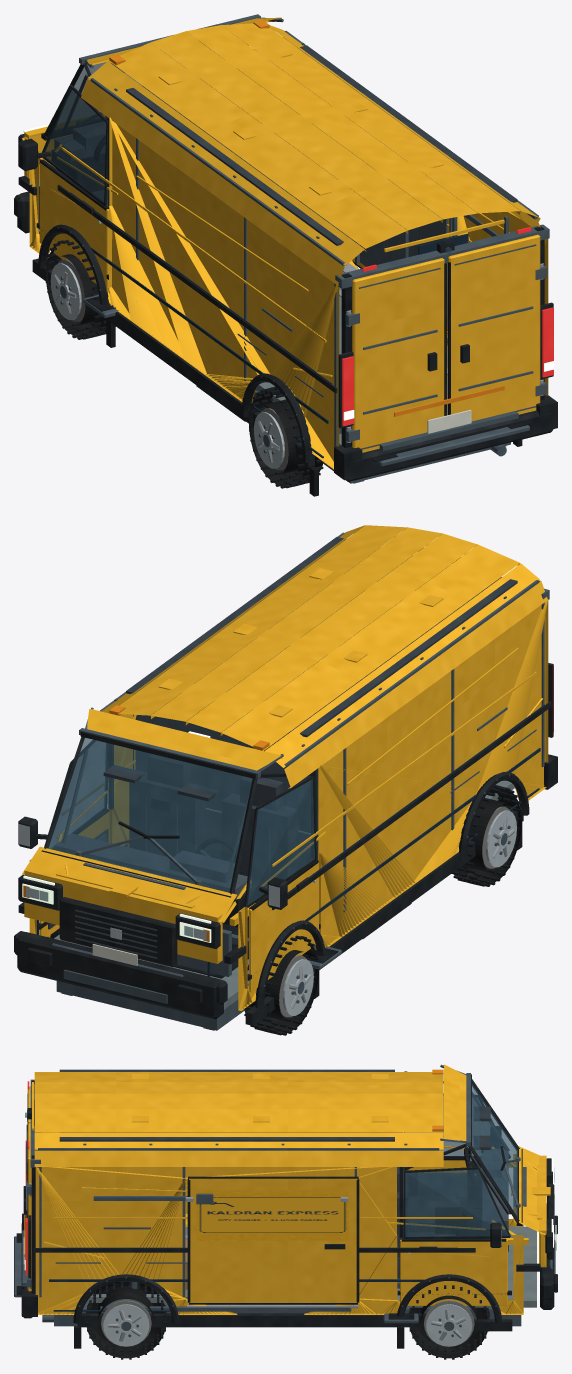
The picture shows the model from 3 angles, top to bottom: view 1: azimuth 30°, elevation 25°; view 2: azimuth 150°, elevation 25°; view 3: azimuth 270°, elevation 25°; orthographic projection. The views are drawn at different scales.
Parts seen in each view (by area): view 1: VIS_Static_paint_parcel, VIS_Static_plastic_black, VIS_HINGE_RearDoor_L_paint_parcel, VIS_HINGE_RearDoor_R_paint_parcel, VIS_Static_steel_dark, VIS_Static_seat_fabric, VIS_HINGE_CabDoor_L_glass, VIS_HINGE_CabDoor_L_paint_parcel, VIS_Static_rubber, VIS_Static_shadow_blue, VIS_CTRL_Wheel_RL_tire, VIS_CTRL_Slide_Cargo_steel_dark (+12 smaller); view 2: VIS_Static_paint_parcel, VIS_Static_plastic_black, VIS_Static_steel_dark, VIS_Static_glass, VIS_Static_seat_fabric, VIS_HINGE_CabDoor_L_glass, VIS_HINGE_CabDoor_L_paint_parcel, VIS_HINGE_CabDoor_R_glass, VIS_CTRL_Wheel_RL_tire, VIS_Static_shadow_blue, VIS_HINGE_CabDoor_L_plastic_black, VIS_CTRL_Wheel_FL_tire (+8 smaller); view 3: VIS_Static_paint_parcel, VIS_Static_plastic_black, VIS_CTRL_Slide_Cargo_paint_parcel, VIS_Static_steel_dark, VIS_CTRL_Slide_Cargo_livery_parcel, VIS_Static_seat_fabric, VIS_HINGE_CabDoor_R_glass, VIS_HINGE_CabDoor_R_paint_parcel, VIS_Static_glass, VIS_CTRL_Wheel_RR_tire, VIS_Static_cargo_floor, VIS_CTRL_Slide_Cargo_rubber (+14 smaller).
Boxes of the visible parts, left/top/right/bottom form: VIS_Static_paint_parcel: left=22, top=17, right=548, bottom=469; VIS_Static_plastic_black: left=14, top=62, right=557, bottom=481; VIS_HINGE_RearDoor_L_paint_parcel: left=352, top=258, right=444, bottom=452; VIS_HINGE_RearDoor_R_paint_parcel: left=447, top=234, right=540, bottom=421; VIS_Static_steel_dark: left=40, top=14, right=549, bottom=483; VIS_Static_seat_fabric: left=62, top=44, right=517, bottom=245; VIS_HINGE_CabDoor_L_glass: left=44, top=88, right=106, bottom=202; VIS_HINGE_CabDoor_L_paint_parcel: left=39, top=161, right=109, bottom=291; VIS_Static_rubber: left=36, top=129, right=544, bottom=496; VIS_Static_shadow_blue: left=39, top=180, right=468, bottom=458; VIS_CTRL_Wheel_RL_tire: left=249, top=388, right=323, bottom=486; VIS_CTRL_Slide_Cargo_steel_dark: left=354, top=219, right=447, bottom=325; VIS_Static_paint_parcel: left=22, top=525, right=548, bottom=1010; VIS_Static_plastic_black: left=14, top=663, right=557, bottom=1025; VIS_Static_steel_dark: left=52, top=532, right=549, bottom=1030; VIS_Static_glass: left=39, top=737, right=252, bottom=936; VIS_Static_seat_fabric: left=62, top=537, right=517, bottom=937; VIS_HINGE_CabDoor_L_glass: left=247, top=779, right=314, bottom=904; VIS_HINGE_CabDoor_L_paint_parcel: left=249, top=861, right=318, bottom=991; VIS_HINGE_CabDoor_R_glass: left=49, top=741, right=106, bottom=848; VIS_CTRL_Wheel_RL_tire: left=454, top=786, right=521, bottom=884; VIS_Static_shadow_blue: left=37, top=548, right=544, bottom=976; VIS_HINGE_CabDoor_L_plastic_black: left=244, top=775, right=316, bottom=909; VIS_CTRL_Wheel_FL_tire: left=244, top=942, right=318, bottom=1033; VIS_Static_paint_parcel: left=32, top=1064, right=550, bottom=1314; VIS_Static_plastic_black: left=21, top=1074, right=557, bottom=1331; VIS_CTRL_Slide_Cargo_paint_parcel: left=188, top=1178, right=357, bottom=1302; VIS_Static_steel_dark: left=14, top=1064, right=555, bottom=1326; VIS_CTRL_Slide_Cargo_livery_parcel: left=196, top=1190, right=348, bottom=1240; VIS_Static_seat_fabric: left=59, top=1069, right=509, bottom=1278; VIS_HINGE_CabDoor_R_glass: left=405, top=1169, right=508, bottom=1236; VIS_HINGE_CabDoor_R_paint_parcel: left=400, top=1239, right=507, bottom=1305; VIS_Static_glass: left=25, top=1083, right=554, bottom=1231; VIS_CTRL_Wheel_RR_tire: left=86, top=1282, right=166, bottom=1358; VIS_Static_cargo_floor: left=86, top=1226, right=536, bottom=1307; VIS_CTRL_Slide_Cargo_rubber: left=187, top=1176, right=359, bottom=1304.
Size of the model in its own units: 2.57 by 2.61 by 5.76.
Materials: 19 (19 with a texture image).
